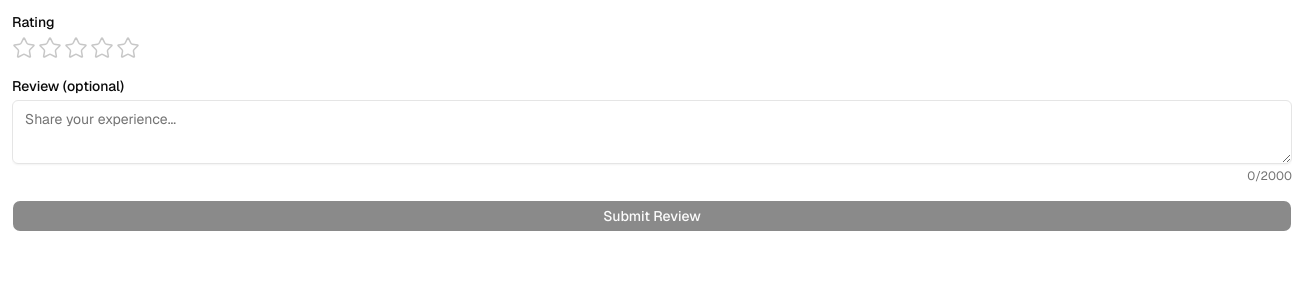
Test case: ReviewForm › shows duplicate review error on 409 response
Click the button named "Rate 3 out of 5 stars".
click(76, 48)  # box [64, 36, 88, 60]
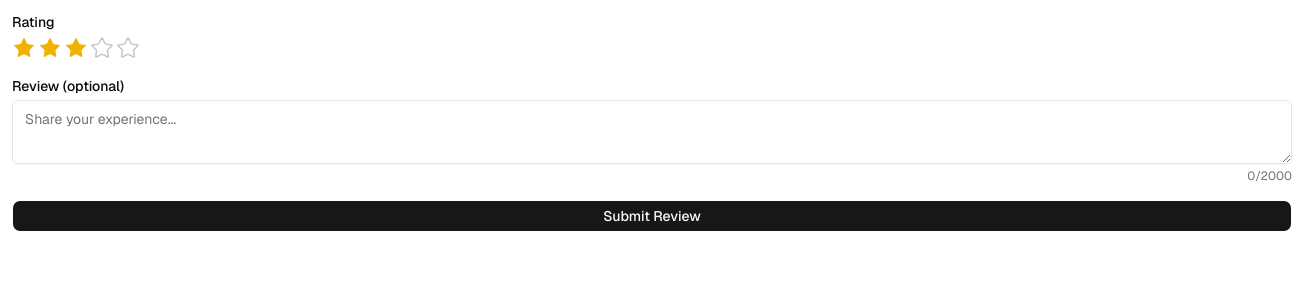
Click the button "Submit Review".
click(652, 216)  # box [12, 200, 1292, 232]
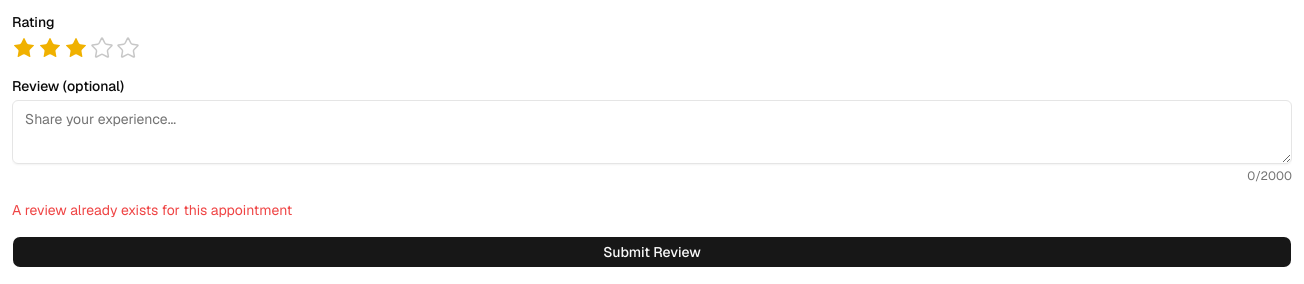
Expected: the text "A review already exists for this appointment" is shown, [12, 201, 292, 219]
